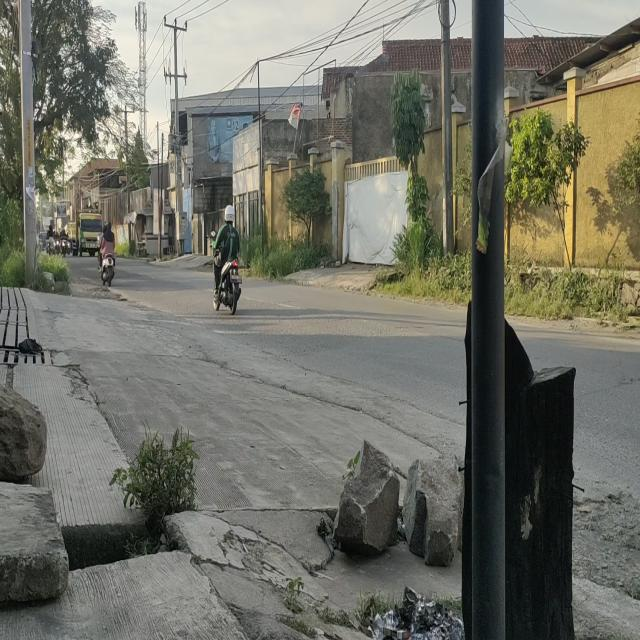helmet: (224, 204, 235, 226)
